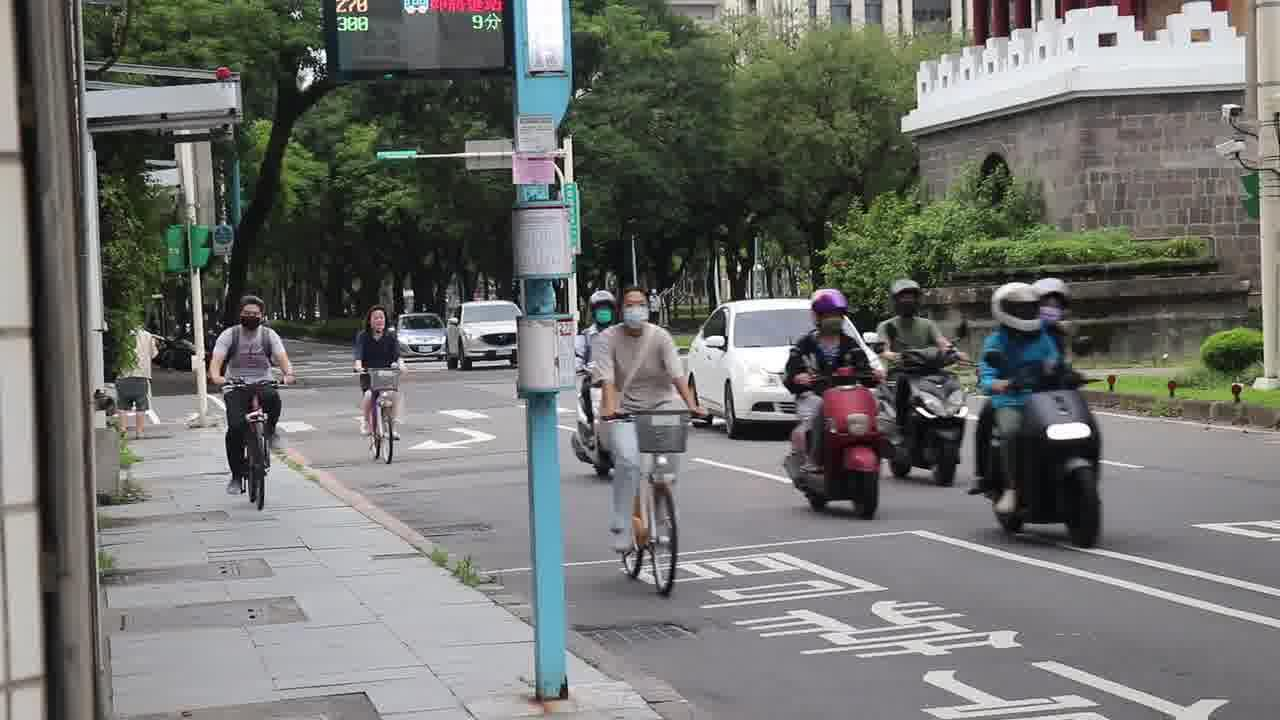bicyclist: (590, 286, 707, 596), (210, 294, 297, 509), (354, 304, 410, 465)
driver: (968, 278, 1105, 549), (781, 286, 885, 519), (877, 278, 974, 487)
helmet: (992, 282, 1042, 333), (1036, 278, 1073, 325), (810, 289, 848, 333), (890, 279, 923, 320), (591, 290, 617, 327)
no-helmet: (617, 287, 651, 330), (237, 295, 266, 330), (366, 305, 389, 333)
